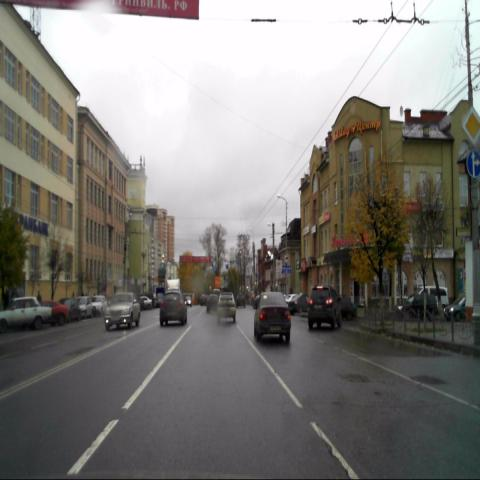2_1: (462, 106, 480, 145)
4_1_4: (466, 149, 480, 178)
